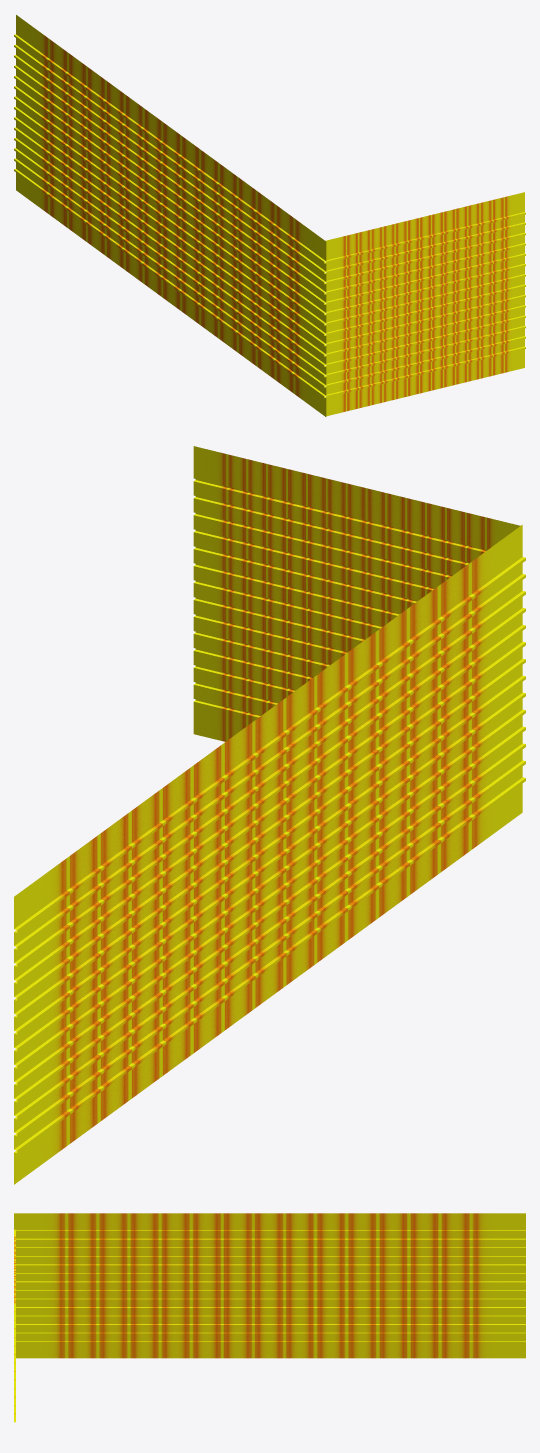
Rendered from RB_Walls_1_3.fbx.
3 views of the same model, one above another, from view 1: azimuth 30°, elevation 25°; view 2: azimuth 150°, elevation 25°; view 3: azimuth 270°, elevation 25° (orthographic). The views are drawn at different scales.
Parts seen in each view (by area): view 1: beam_0.5x2_Cube.366_beam_0.5x2_Cube.006; view 2: beam_0.5x2_Cube.366_beam_0.5x2_Cube.006; view 3: beam_0.5x2_Cube.366_beam_0.5x2_Cube.006.
Part boxes in pixels (x1,y1,x2,y2): beam_0.5x2_Cube.366_beam_0.5x2_Cube.006: (14,15,525,416); beam_0.5x2_Cube.366_beam_0.5x2_Cube.006: (14,446,525,1184); beam_0.5x2_Cube.366_beam_0.5x2_Cube.006: (14,1213,525,1422).
Size of the model in its own units: 300 by 250 by 800.
